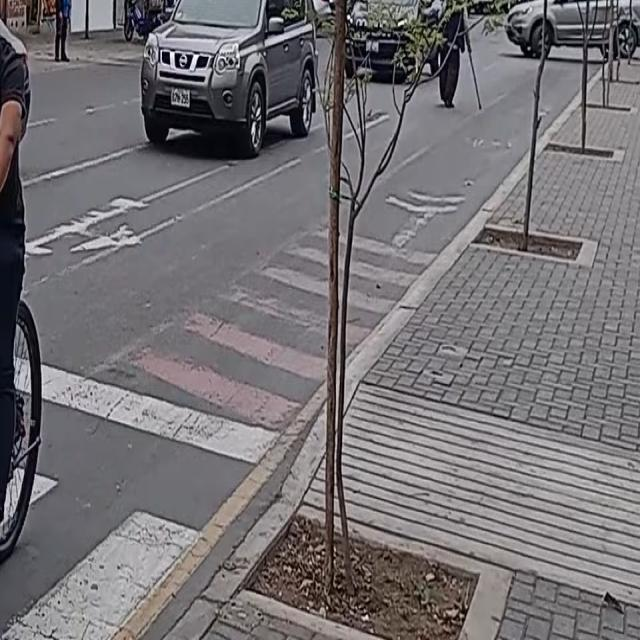bicycle: (0, 0, 52, 640)
car: (134, 0, 320, 160), (502, 0, 640, 64), (342, 0, 442, 83), (0, 0, 33, 224)
